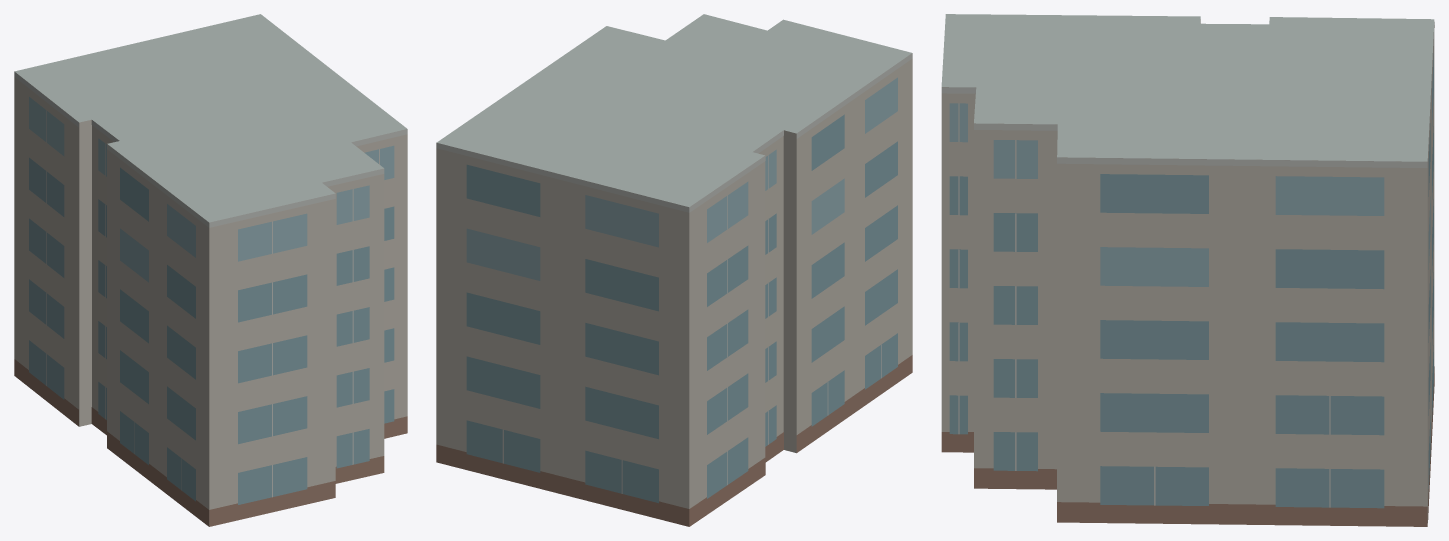
File: survey-upis-32677678.glb
The picture shows the model from 3 angles, left to right: view 1: azimuth 30°, elevation 25°; view 2: azimuth 150°, elevation 25°; view 3: azimuth 270°, elevation 25°; orthographic projection. The views are drawn at different scales.
Visible parts, largest first — view 1: survey-upis-32677678.tmp; view 2: survey-upis-32677678.tmp; view 3: survey-upis-32677678.tmp.
Part boxes in pixels (box(x1,y1,x2,y2)): survey-upis-32677678.tmp: box(14, 14, 407, 526); survey-upis-32677678.tmp: box(436, 14, 912, 526); survey-upis-32677678.tmp: box(941, 14, 1434, 526).
Bounding box in the file's own units: 12.12 × 13.95 × 17.08.
